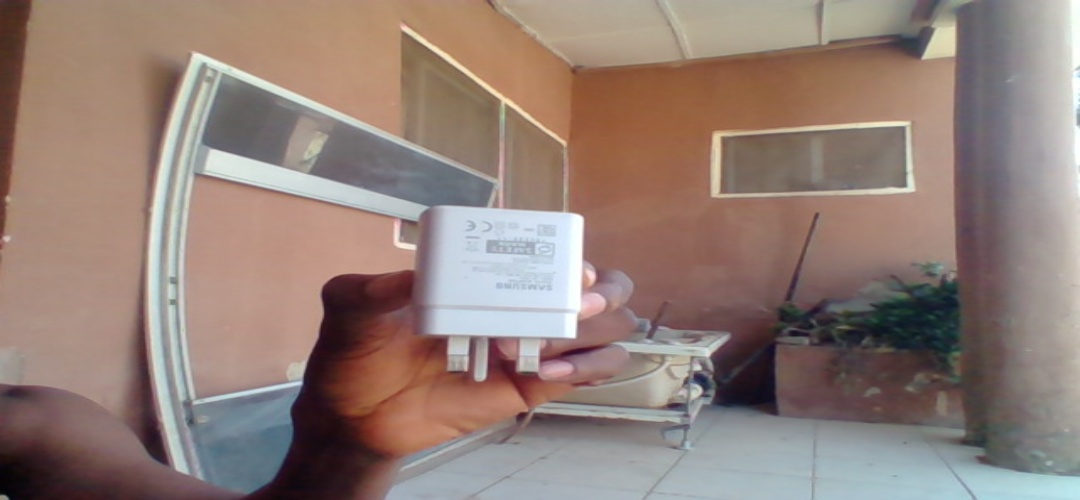phone_charger: (417, 206, 581, 383)
